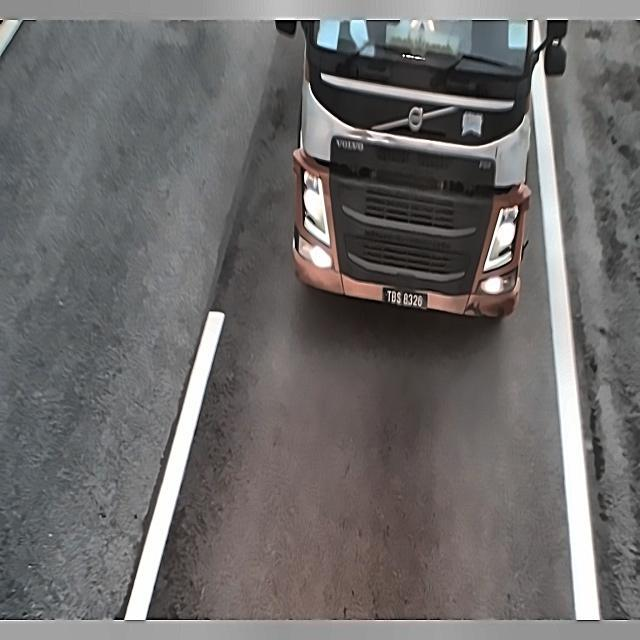car: (379, 282, 434, 316)
